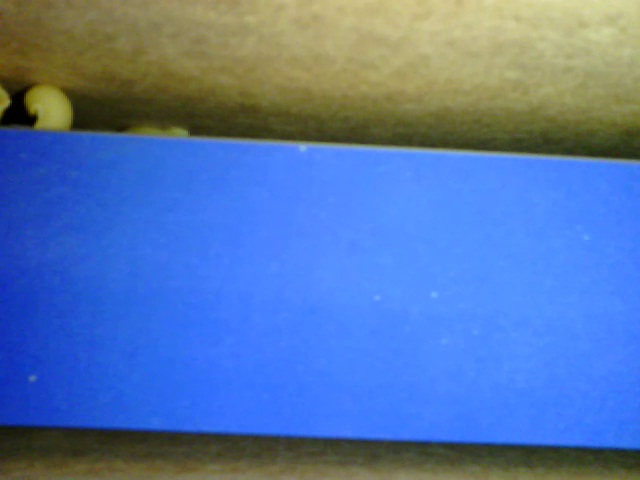shell: (20, 83, 77, 134)
